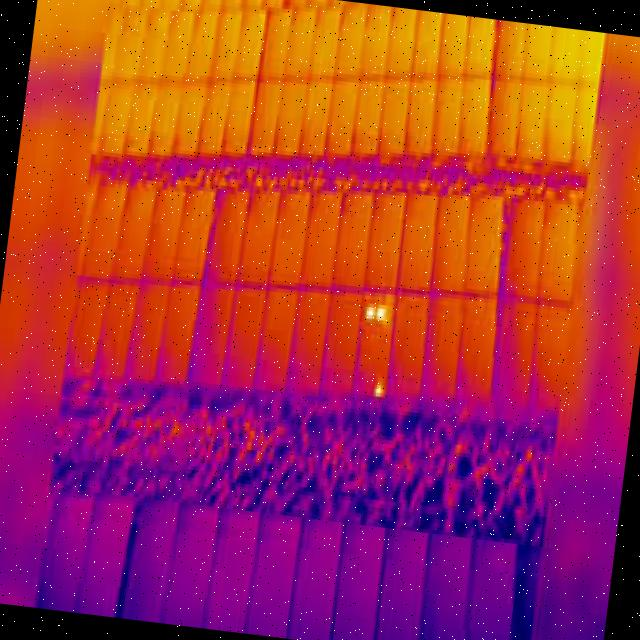Hotspot: (369, 371, 388, 402), (360, 297, 377, 326), (373, 301, 390, 322)
